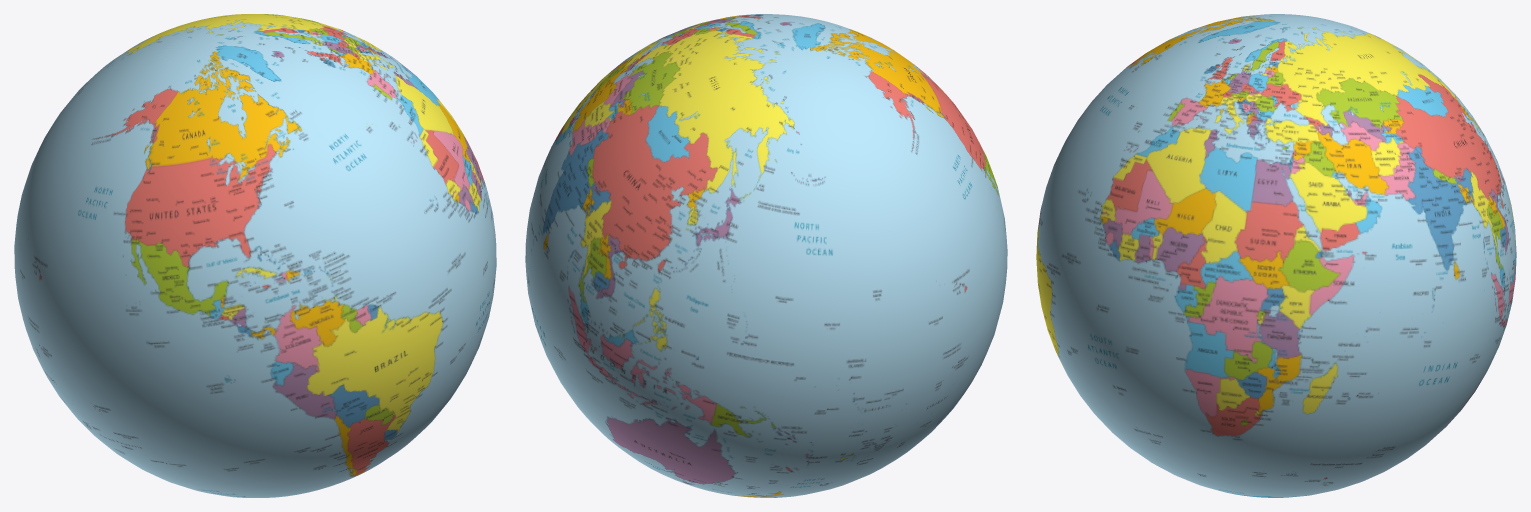
File: WorldMap.glb
3 views of the same model, side by side, from view 1: azimuth 30°, elevation 25°; view 2: azimuth 150°, elevation 25°; view 3: azimuth 270°, elevation 25° (orthographic).
Visible parts, largest first — view 1: WorldMap; view 2: WorldMap; view 3: WorldMap.
Part boxes in pixels (bbox=[...]): WorldMap: bbox=[14, 14, 496, 497]; WorldMap: bbox=[525, 14, 1007, 497]; WorldMap: bbox=[1036, 14, 1516, 497].
Bounding box in the file's own units: 3.16 × 3.18 × 3.16.
1 material, 1 textured.
